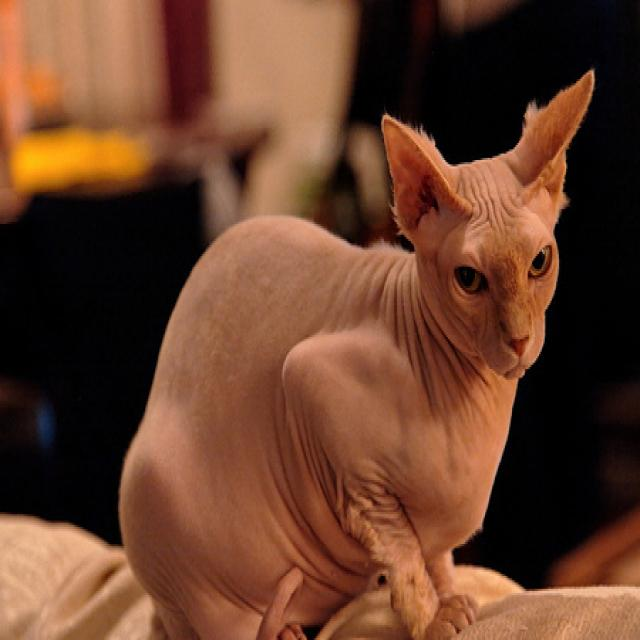Sphynx: (115, 62, 600, 640)
